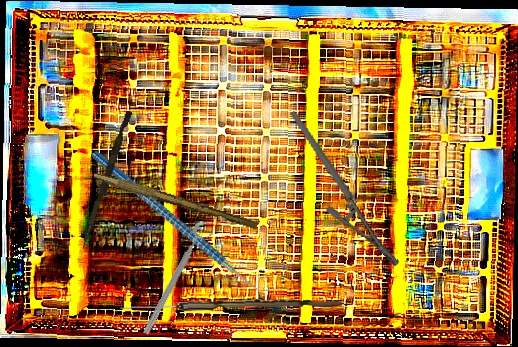Chopper: (90, 107, 280, 338)
Fixation Ring: (139, 218, 217, 341)
Needle Holder: (289, 94, 402, 284)
Pusher: (80, 109, 133, 251)
Scalpel Handle: (91, 171, 260, 231)
Surgical Spoon: (119, 296, 343, 314)
